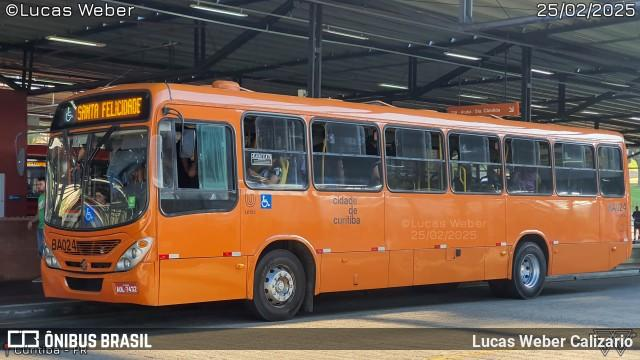SANTA FELICIDADE: (74, 96, 144, 124)
